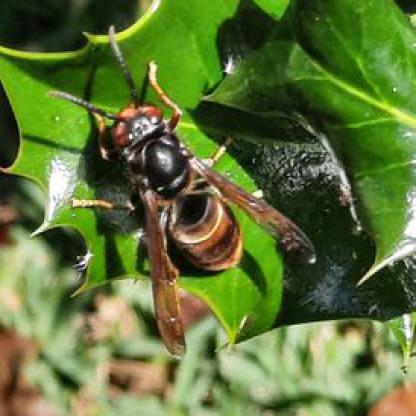Asian Hornet: (50, 25, 320, 358)
